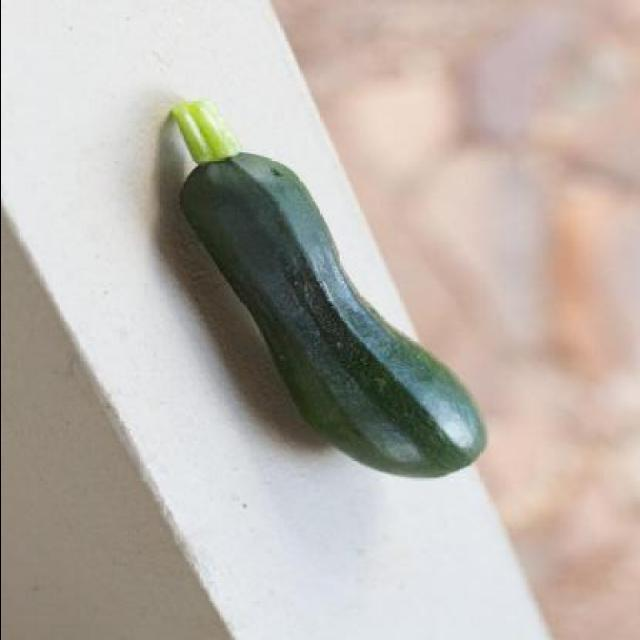Zucchini: (165, 99, 502, 487)
